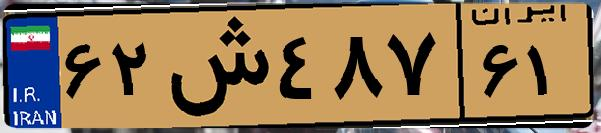1: (525, 38, 570, 115)
2: (110, 28, 158, 98)
4: (270, 28, 330, 110)
6: (57, 26, 110, 100), (475, 38, 525, 113)
7: (385, 28, 445, 110)
8: (330, 28, 385, 110)
ش: (158, 12, 270, 120)
